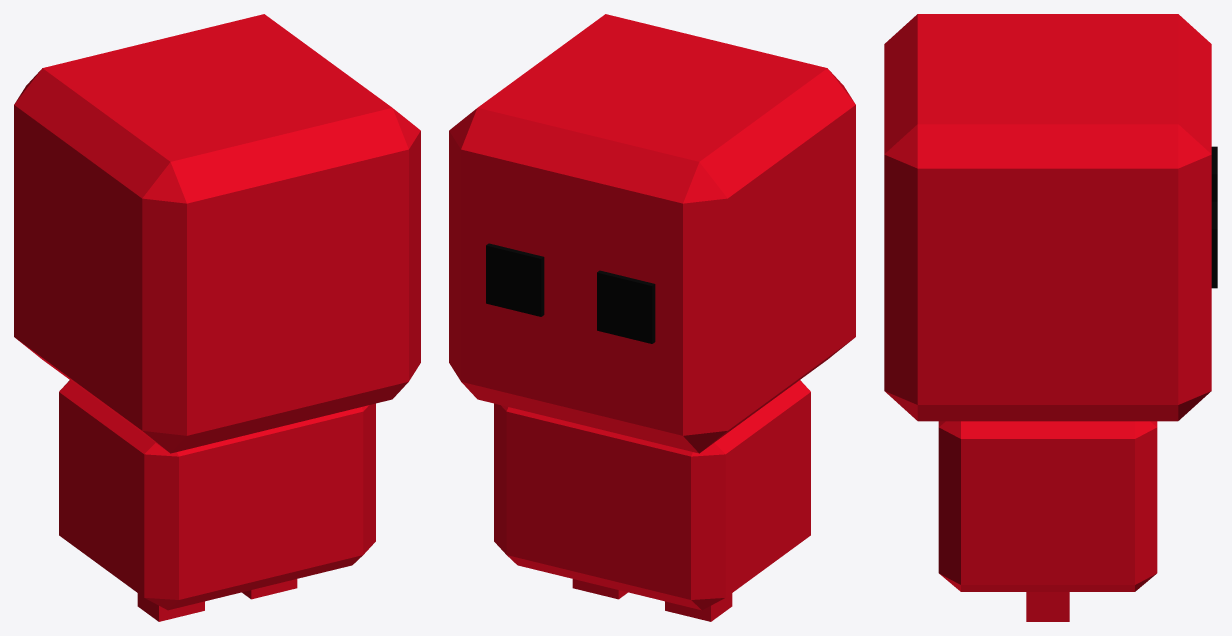
The model's file is MobShortLeg (1).fbx.
3 views of the same model, side by side, from view 1: azimuth 30°, elevation 25°; view 2: azimuth 150°, elevation 25°; view 3: azimuth 270°, elevation 25° (orthographic).
Visible parts, largest first — view 1: MobShortLeg.001; view 2: MobShortLeg.001; view 3: MobShortLeg.001.
Part boxes in pixels (x1,y1,x2,y2): MobShortLeg.001: (14, 14, 420, 621); MobShortLeg.001: (449, 14, 855, 621); MobShortLeg.001: (884, 14, 1217, 621).
Size of the model in its own units: 17.53 by 30.06 by 17.21.
